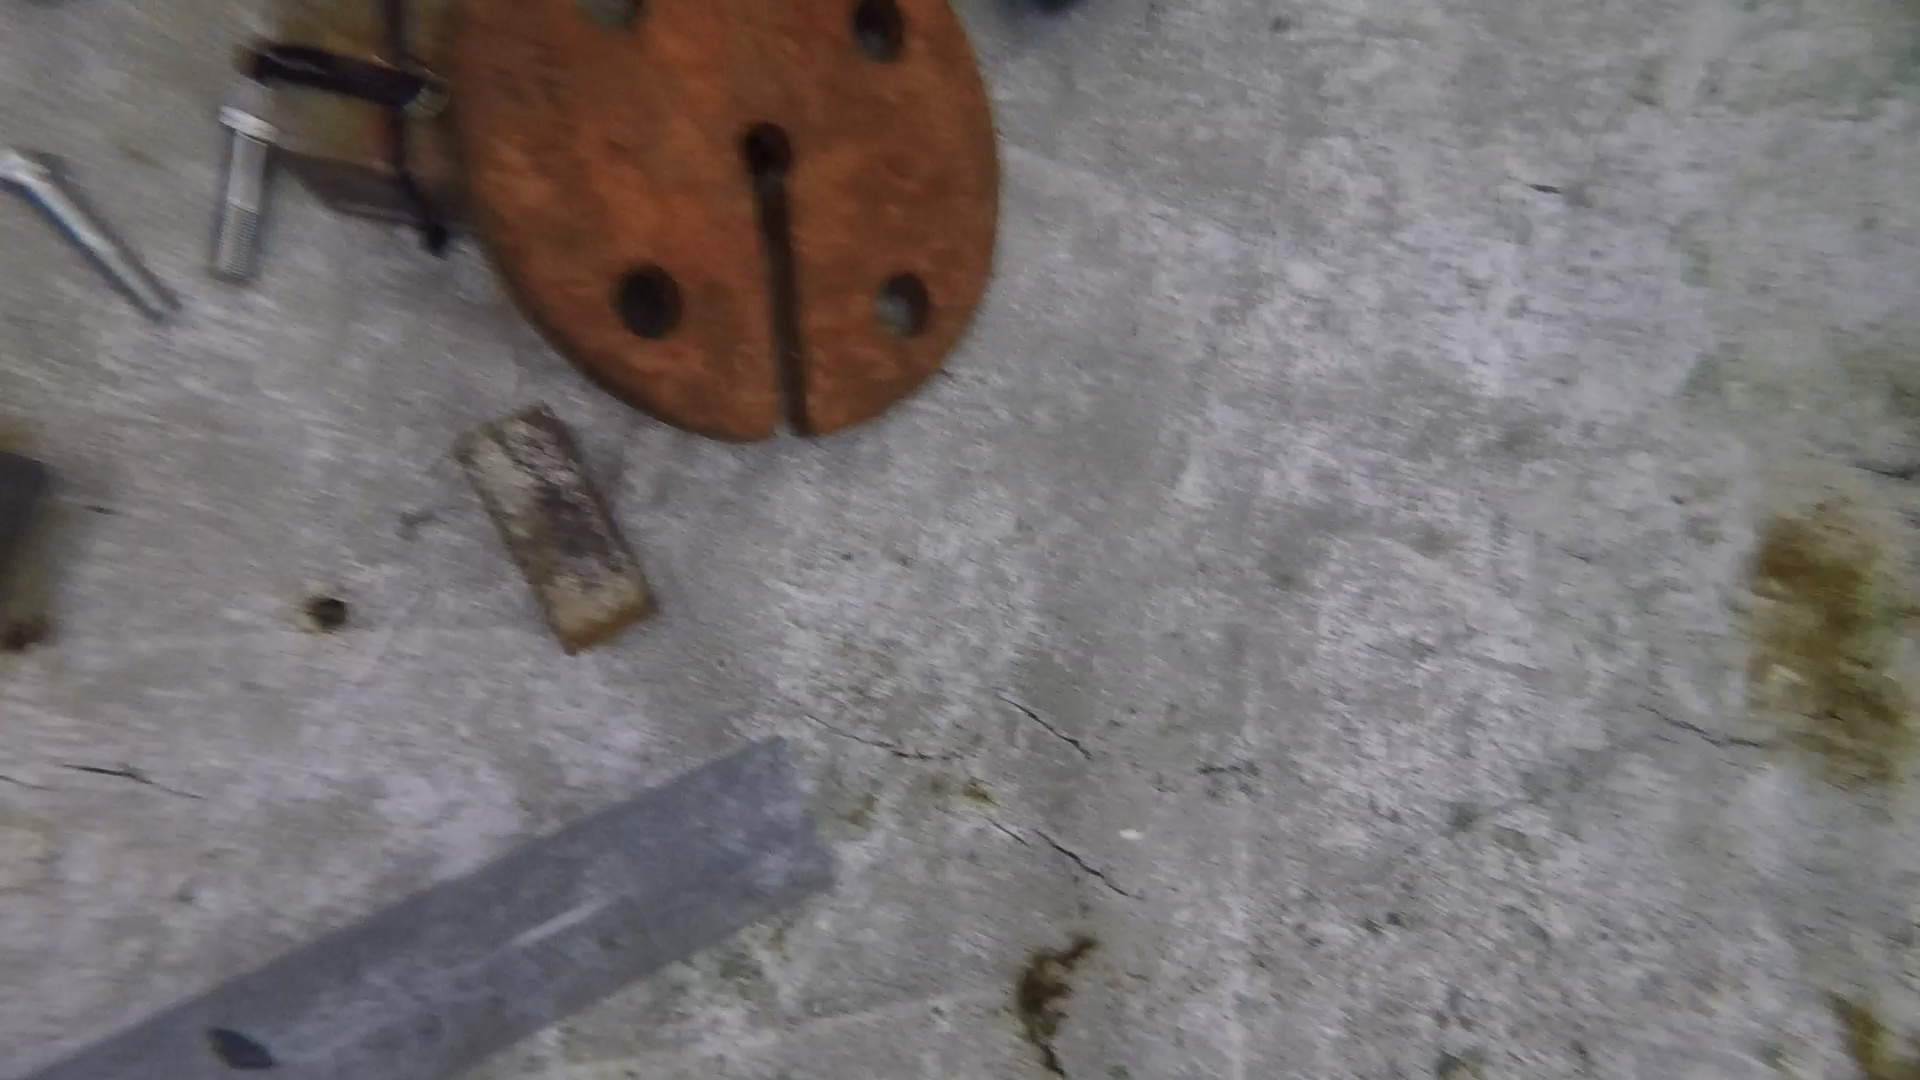bolt: (1, 144, 178, 331), (206, 105, 278, 287)
flange: (448, 3, 996, 440)
led_block: (455, 397, 665, 661), (262, 1, 451, 257)
pipe: (9, 733, 843, 1080)
